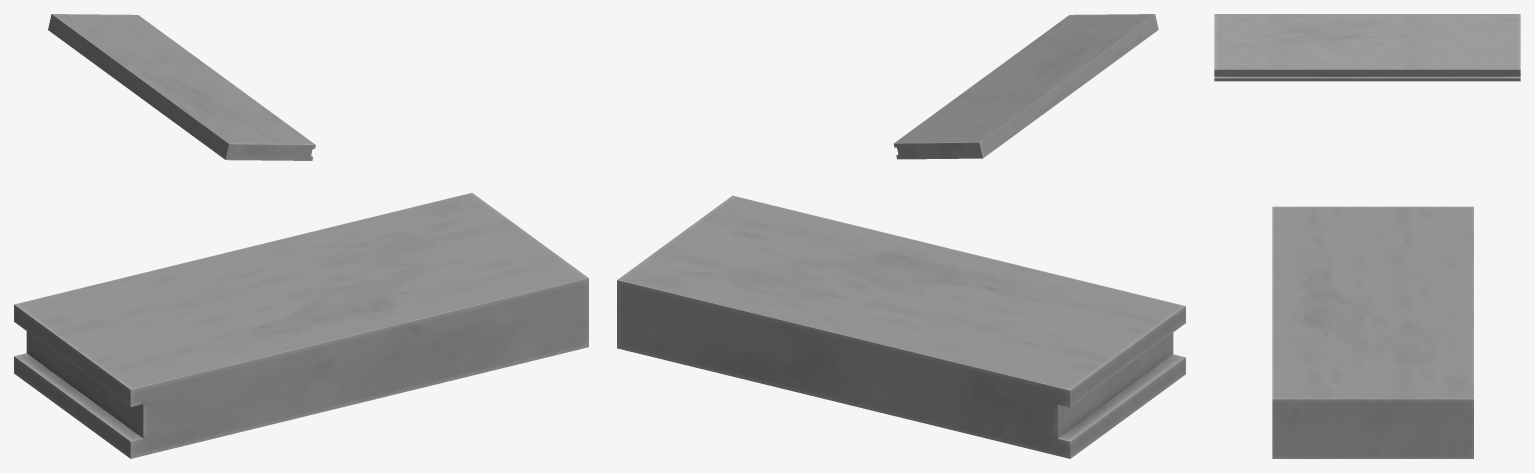
File: Mat_Stairs_Soda.fbx
The picture shows the model from 3 angles, left to right: view 1: azimuth 30°, elevation 25°; view 2: azimuth 150°, elevation 25°; view 3: azimuth 270°, elevation 25°; orthographic projection. The views are drawn at different scales.
Visible parts, largest first — view 1: Mat_Stairs_Soda; view 2: Mat_Stairs_Soda; view 3: Mat_Stairs_Soda.
Boxes of the visible parts, box(x1,y1,x2,y2) form: Mat_Stairs_Soda: box(14, 14, 588, 458); Mat_Stairs_Soda: box(617, 14, 1185, 458); Mat_Stairs_Soda: box(1214, 14, 1520, 458).
Bounding box in the file's own units: 1.59 × 1.07 × 1.07.
Materials: 1 (1 with a texture image).
